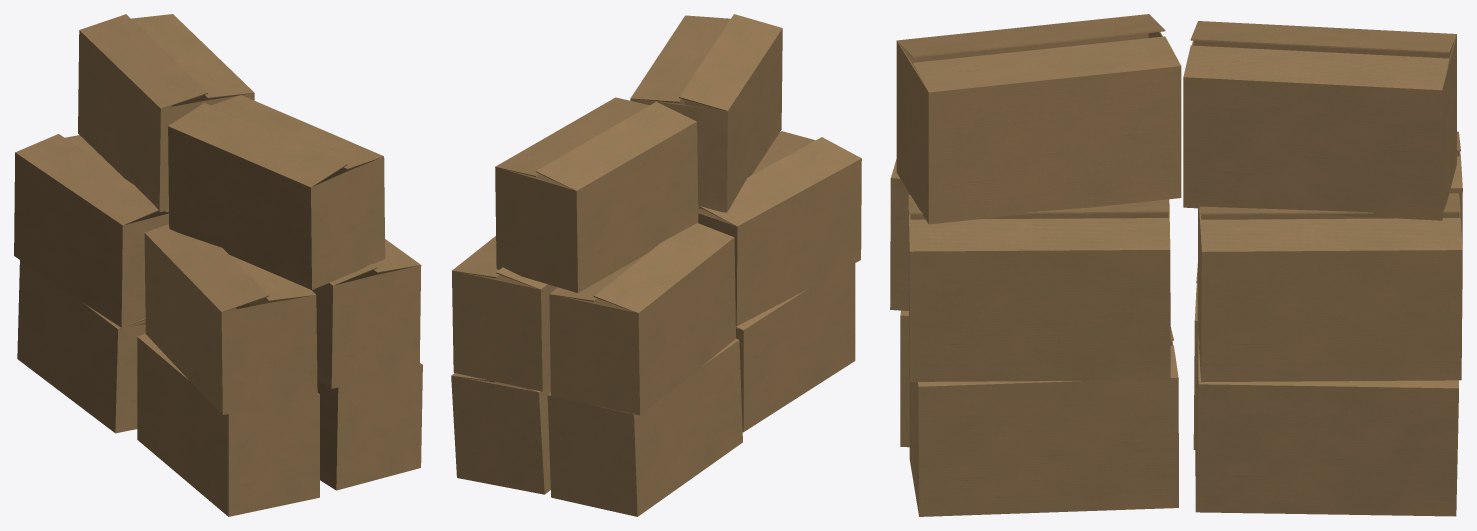
Rendered from Cardboard Wall.fbx.
3 views of the same model, side by side, from view 1: azimuth 30°, elevation 25°; view 2: azimuth 150°, elevation 25°; view 3: azimuth 270°, elevation 25° (orthographic). The views are drawn at different scales.
Parts seen in each view (by area): view 1: BoxesMEsh; view 2: BoxesMEsh; view 3: BoxesMEsh.
Boxes of the visible parts, x1=… form: BoxesMEsh: x1=14, y1=14, x2=422, y2=516; BoxesMEsh: x1=451, y1=14, x2=861, y2=516; BoxesMEsh: x1=890, y1=14, x2=1462, y2=516.
Size of the model in its own units: 2.09 by 3.19 by 3.95.
